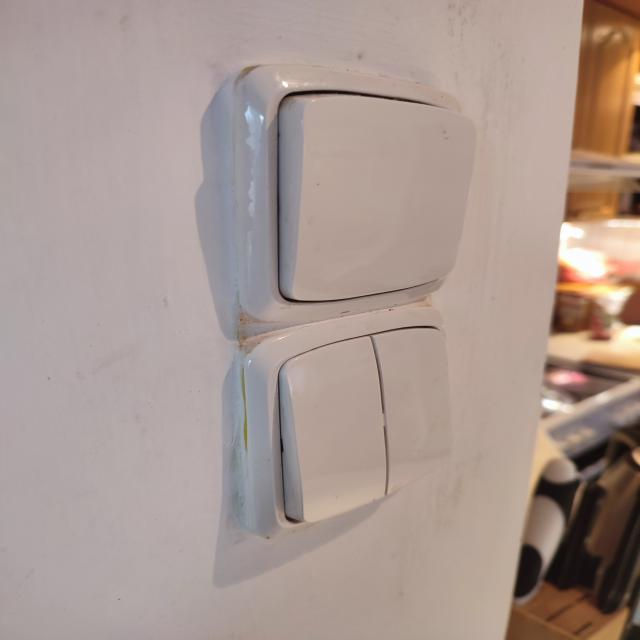house switch: (254, 74, 475, 321)
house switch double: (251, 313, 454, 539)
